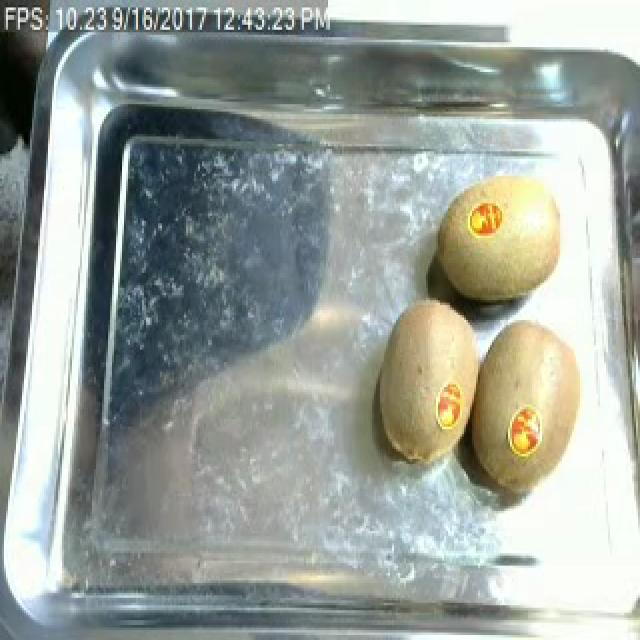Fruit: (466, 308, 596, 501), (368, 290, 490, 474), (430, 164, 576, 312)
